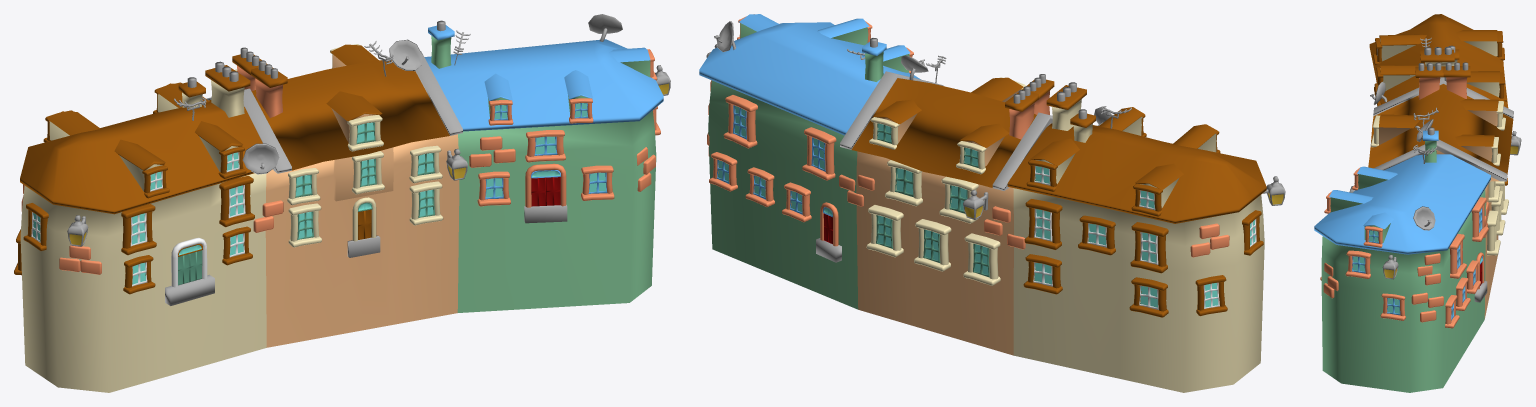
Rendered from building_alena_1.fbx.
The picture shows the model from 3 angles, left to right: view 1: azimuth 30°, elevation 25°; view 2: azimuth 150°, elevation 25°; view 3: azimuth 270°, elevation 25°; orthographic projection. The views are drawn at different scales.
Parts seen in each view (by area): view 1: building_alena_1; view 2: building_alena_1; view 3: building_alena_1.
Part boxes in pixels (box(x1,y1,x2,y2)): building_alena_1: box(14, 14, 670, 392); building_alena_1: box(699, 14, 1285, 392); building_alena_1: box(1314, 14, 1521, 392).
Size of the model in its own units: 42.44 by 17.22 by 16.21.
